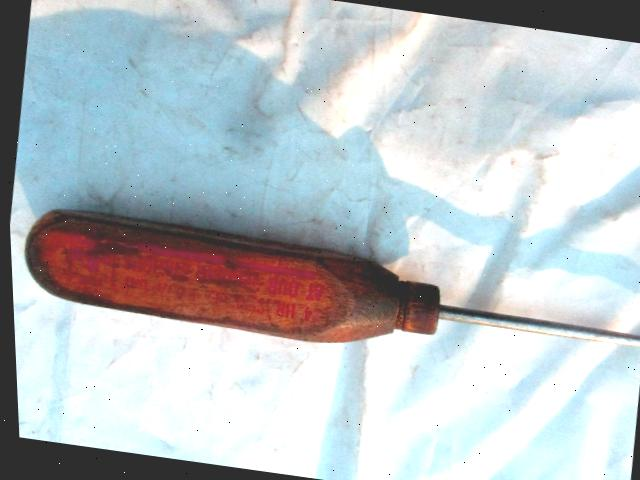ice pick: (12, 200, 640, 386)
